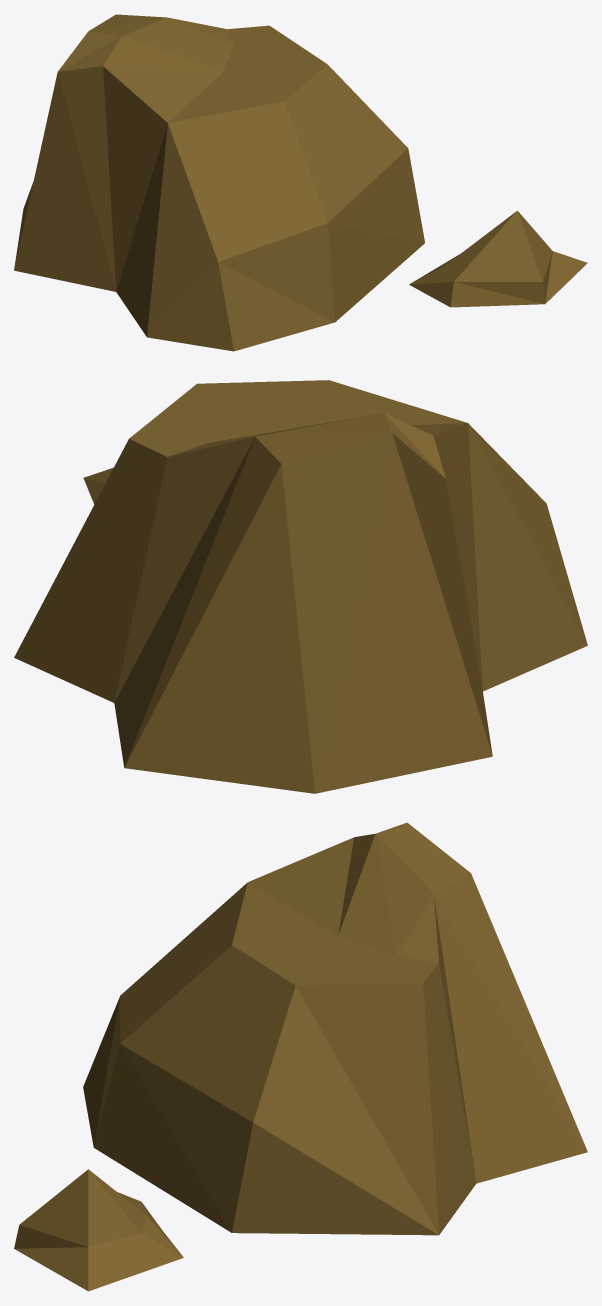
Rendered from obj_waterfall_rocks_2_0.obj.
3 views of the same model, one above another, from view 1: azimuth 30°, elevation 25°; view 2: azimuth 150°, elevation 25°; view 3: azimuth 270°, elevation 25° (orthographic). The views are drawn at different scales.
Size of the model in its own units: 0.875 by 0.4219 by 0.8438.
